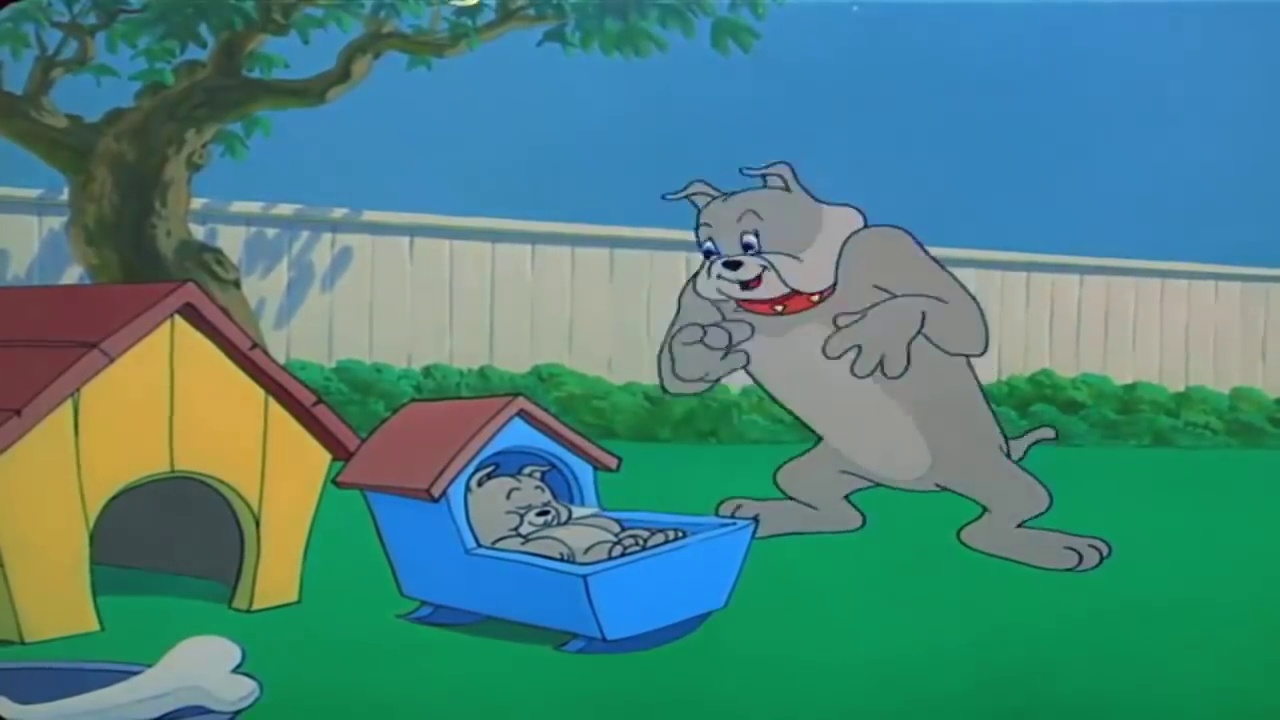spike: (660, 159, 874, 324)
